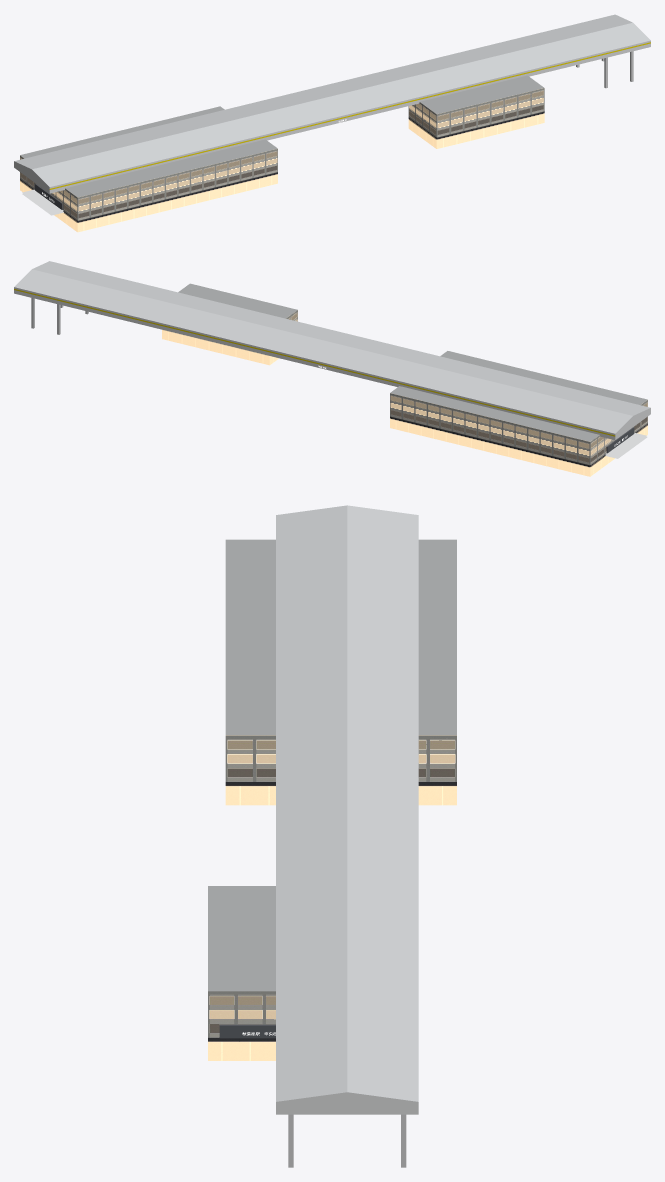
File: akihabara_station.glb
3 renders of one model, top to bottom at view 1: azimuth 30°, elevation 25°; view 2: azimuth 150°, elevation 25°; view 3: azimuth 270°, elevation 25°, orthographic. The views are drawn at different scales.
Visible parts, largest first — view 1: AK_Station; view 2: AK_Station; view 3: AK_Station.
Boxes of the visible parts, x1,y1,x2,y2 form: AK_Station: (14, 14, 650, 232); AK_Station: (14, 261, 650, 476); AK_Station: (208, 505, 456, 1167).
Size of the model in its own units: 234 by 16.6 by 42.
Materials: 9 (1 with a texture image).
